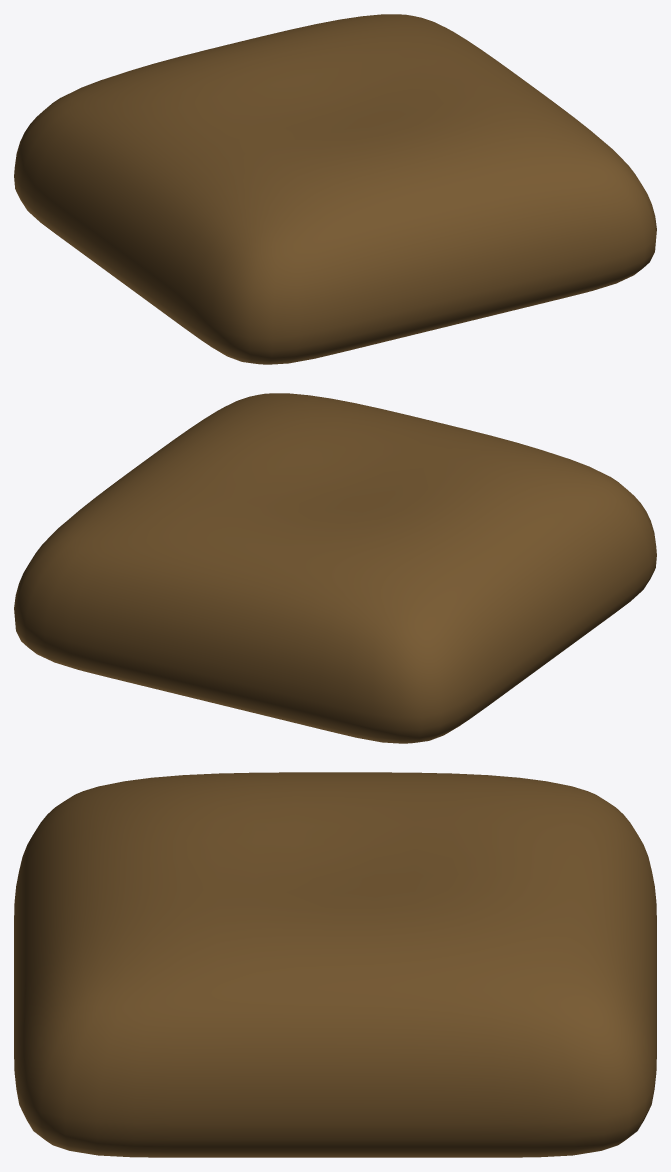
File: DirtPile.fbx
3 renders of one model, top to bottom at view 1: azimuth 30°, elevation 25°; view 2: azimuth 150°, elevation 25°; view 3: azimuth 270°, elevation 25°, orthographic. The views are drawn at different scales.
Parts seen in each view (by area): view 1: Cube.001; view 2: Cube.001; view 3: Cube.001.
Boxes of the visible parts, x1,y1,x2,y2 form: Cube.001: (14,14,656,364); Cube.001: (14,393,656,743); Cube.001: (14,772,656,1157).
Bounding box in the file's own units: 99.44 × 32.32 × 99.44.
